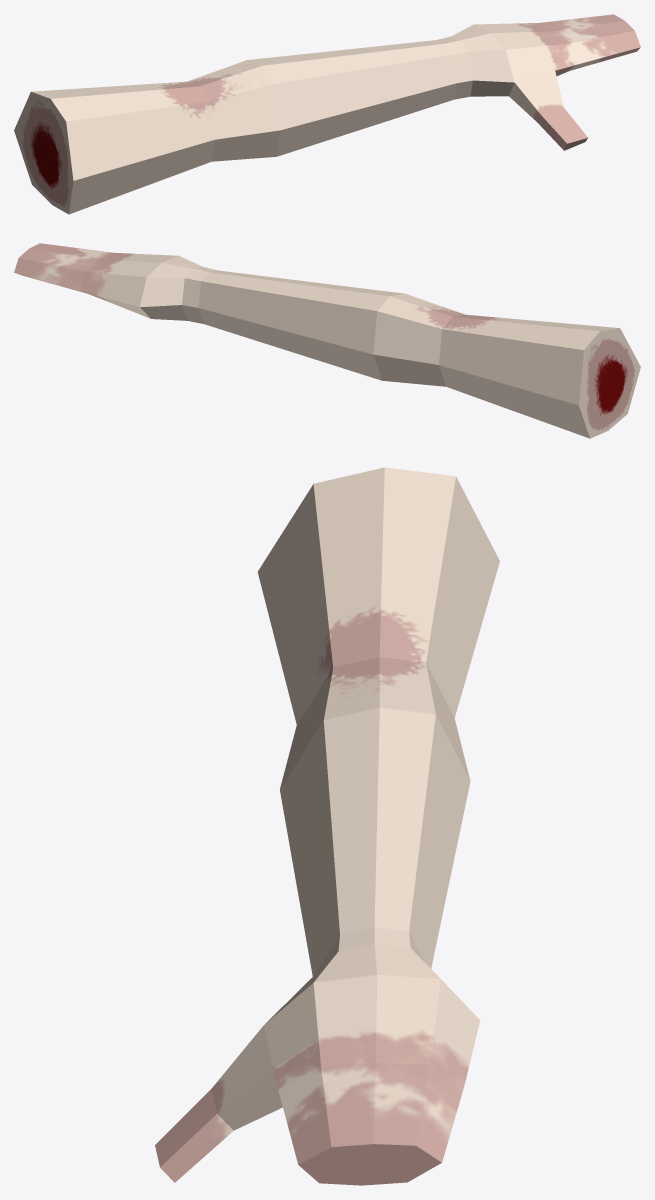
The model's file is lemvaskas.fbx.
3 renders of one model, top to bottom at view 1: azimuth 30°, elevation 25°; view 2: azimuth 150°, elevation 25°; view 3: azimuth 270°, elevation 25°, orthographic. The views are drawn at different scales.
Parts seen in each view (by area): view 1: arms.002; view 2: arms.002; view 3: arms.002.
Boxes of the visible parts, x1=… form: arms.002: x1=14, y1=14, x2=640, y2=214; arms.002: x1=14, y1=243, x2=640, y2=438; arms.002: x1=155, y1=467, x2=499, y2=1185.
Size of the model in its own units: 136 by 28.05 by 35.03.
